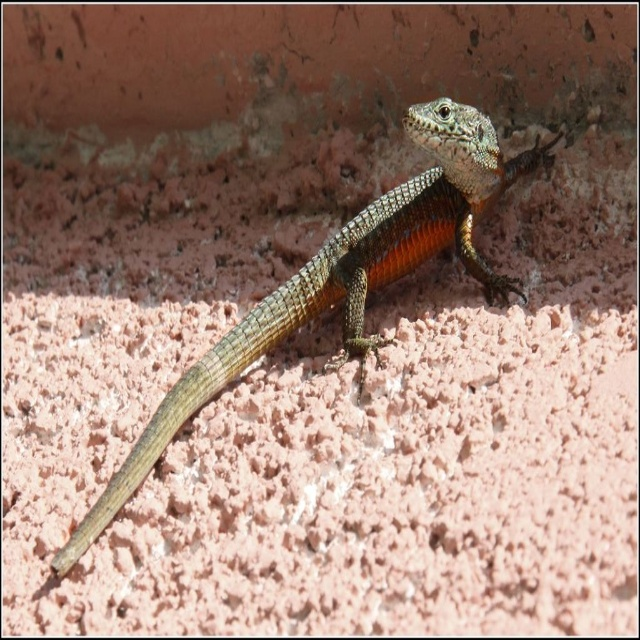Lizard: (53, 92, 562, 570)
